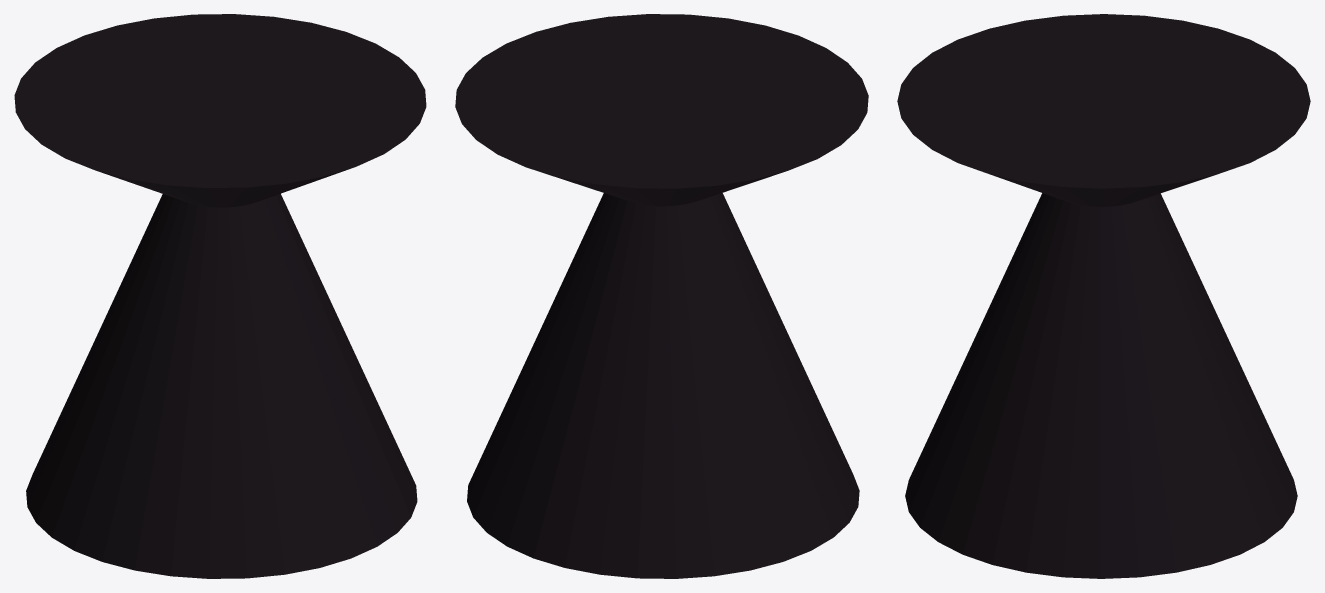
The model's file is Small_Table.fbx.
The picture shows the model from 3 angles, left to right: view 1: azimuth 30°, elevation 25°; view 2: azimuth 150°, elevation 25°; view 3: azimuth 270°, elevation 25°; orthographic projection.
Parts seen in each view (by area): view 1: Circle; view 2: Circle; view 3: Circle.
Part boxes in pixels (<box>): Circle: <box>14,14,426,578</box>; Circle: <box>455,14,868,578</box>; Circle: <box>897,14,1310,578</box>.
Size of the model in its own units: 211 by 222 by 211.
